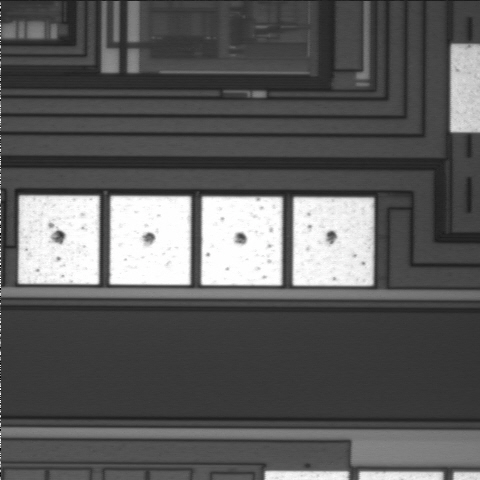pad: (201, 197, 283, 285), (110, 196, 191, 285), (293, 197, 374, 286), (18, 196, 99, 284)
